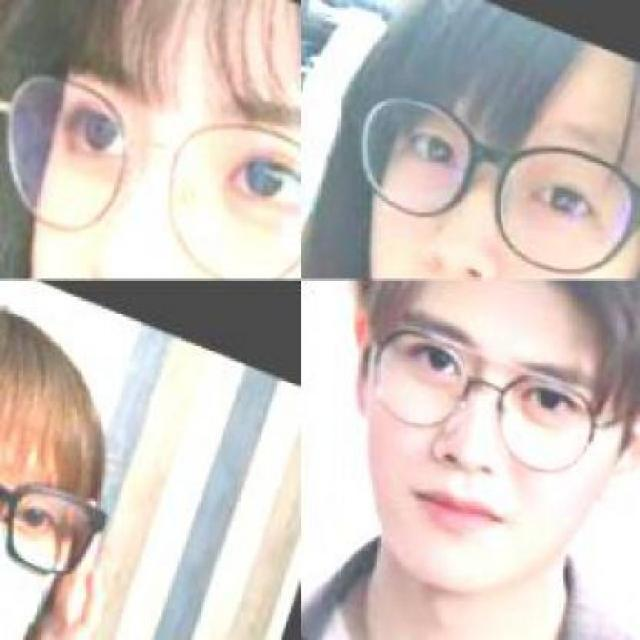mask: (0, 66, 298, 276), (358, 68, 638, 277), (364, 308, 634, 472), (0, 412, 114, 596)
